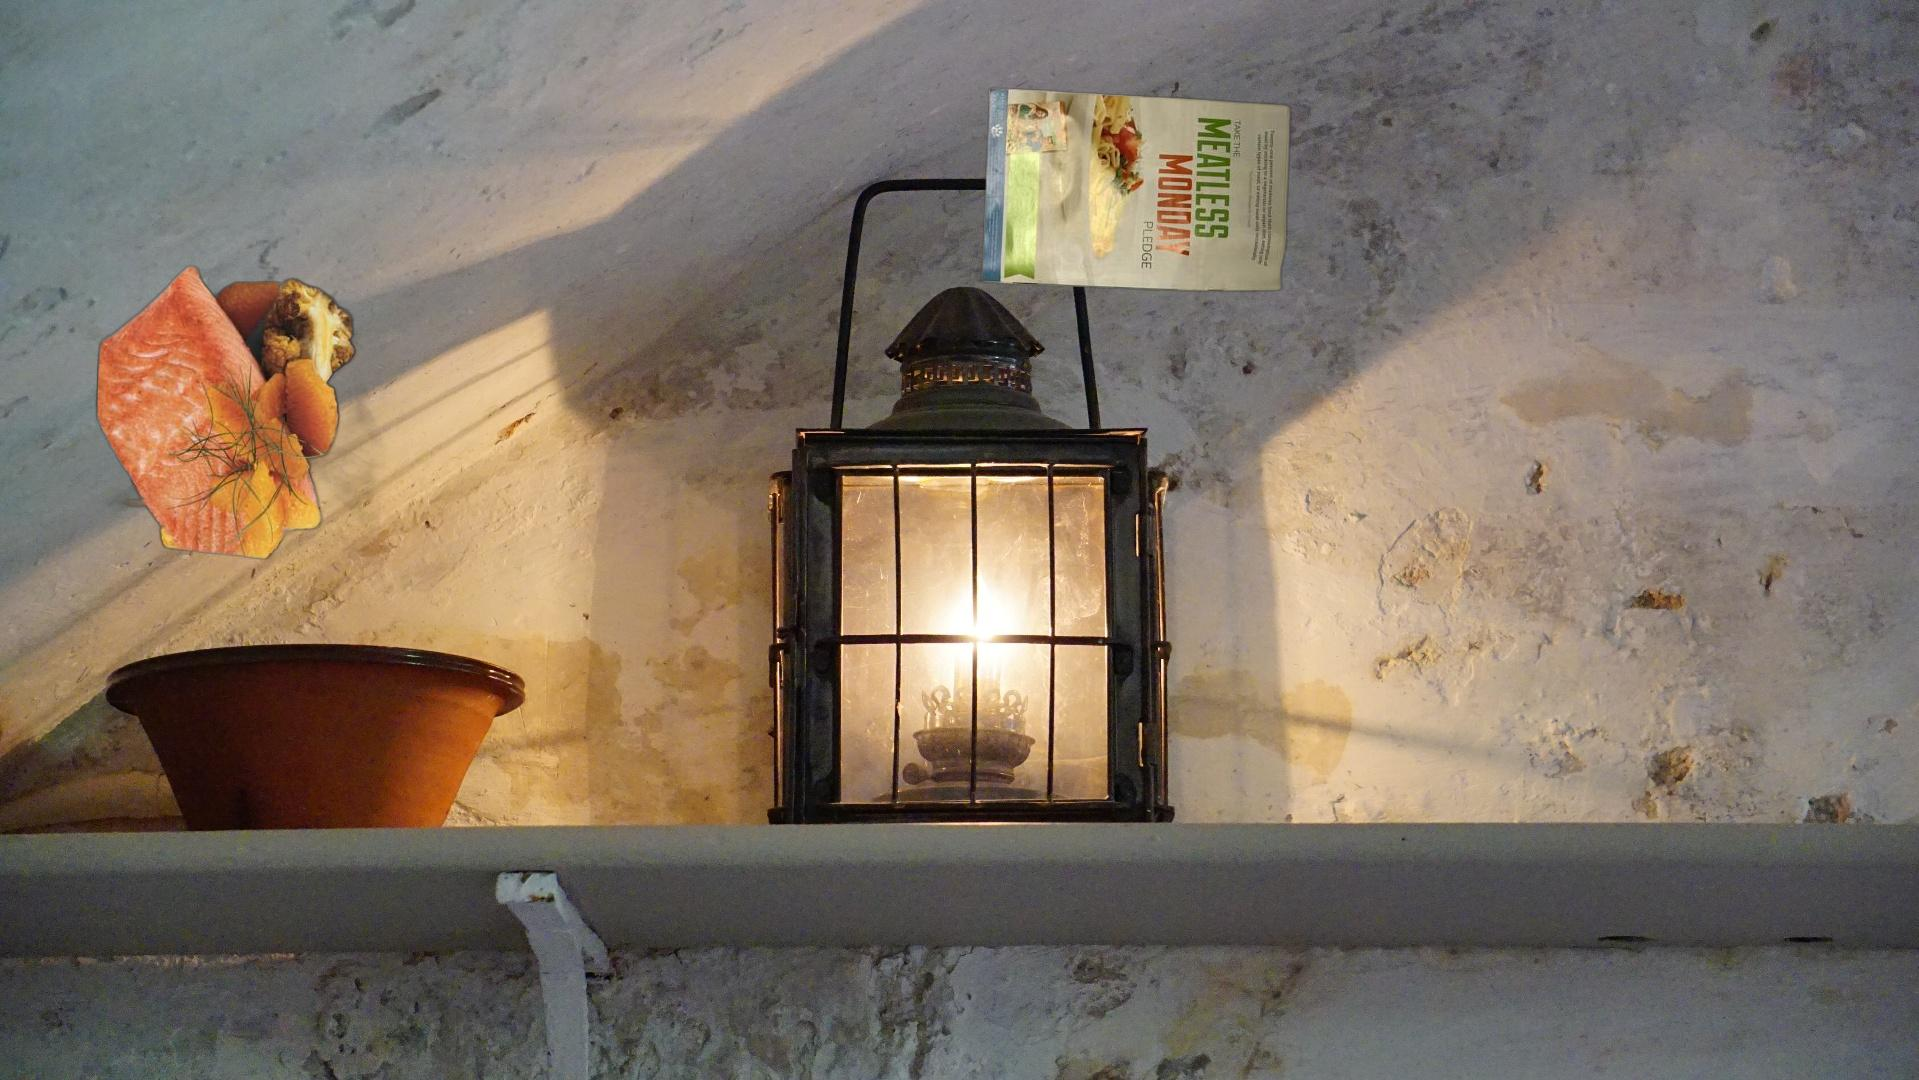paper: (92, 262, 393, 585), (977, 84, 1296, 294)
plastic-bag: (986, 198, 1176, 277)
